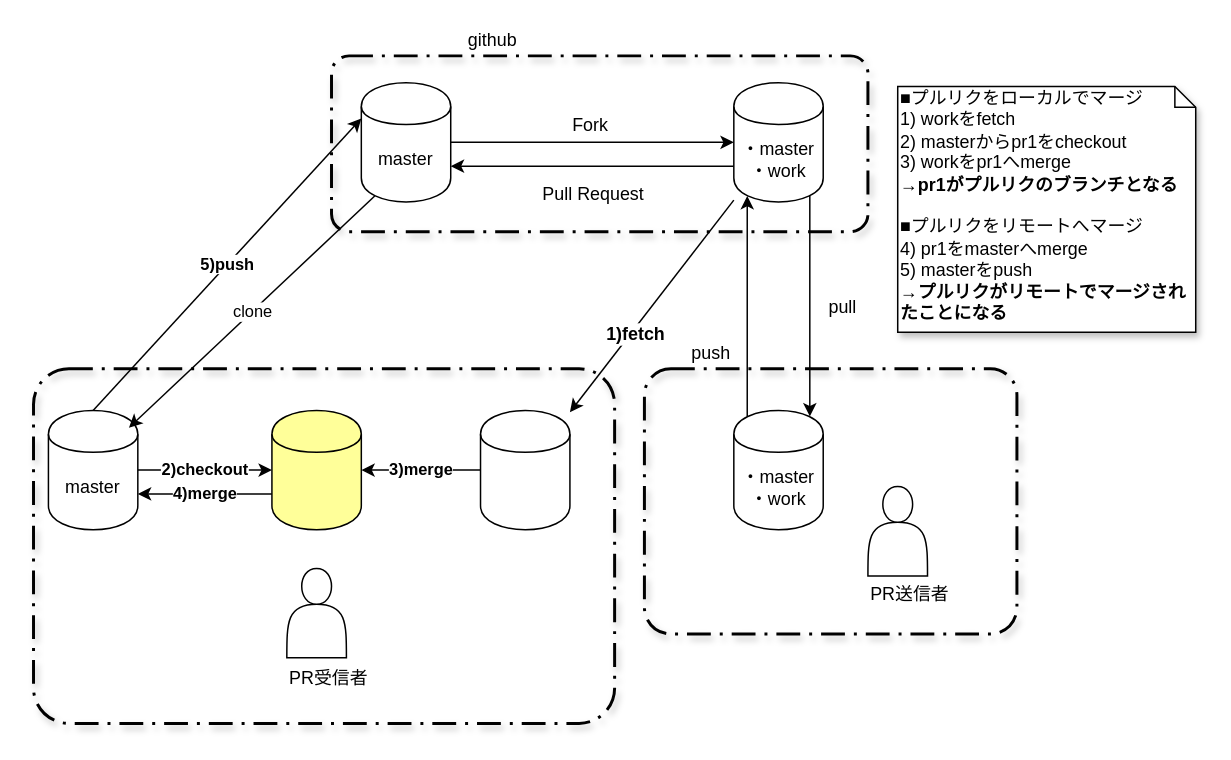
The diagram is 1231 pixels wide and 760 high, and some of its shapes have lost their labels. Each missing label, with the centre of its shape:
pr1: the point at 315,469
work: the point at 524,469
